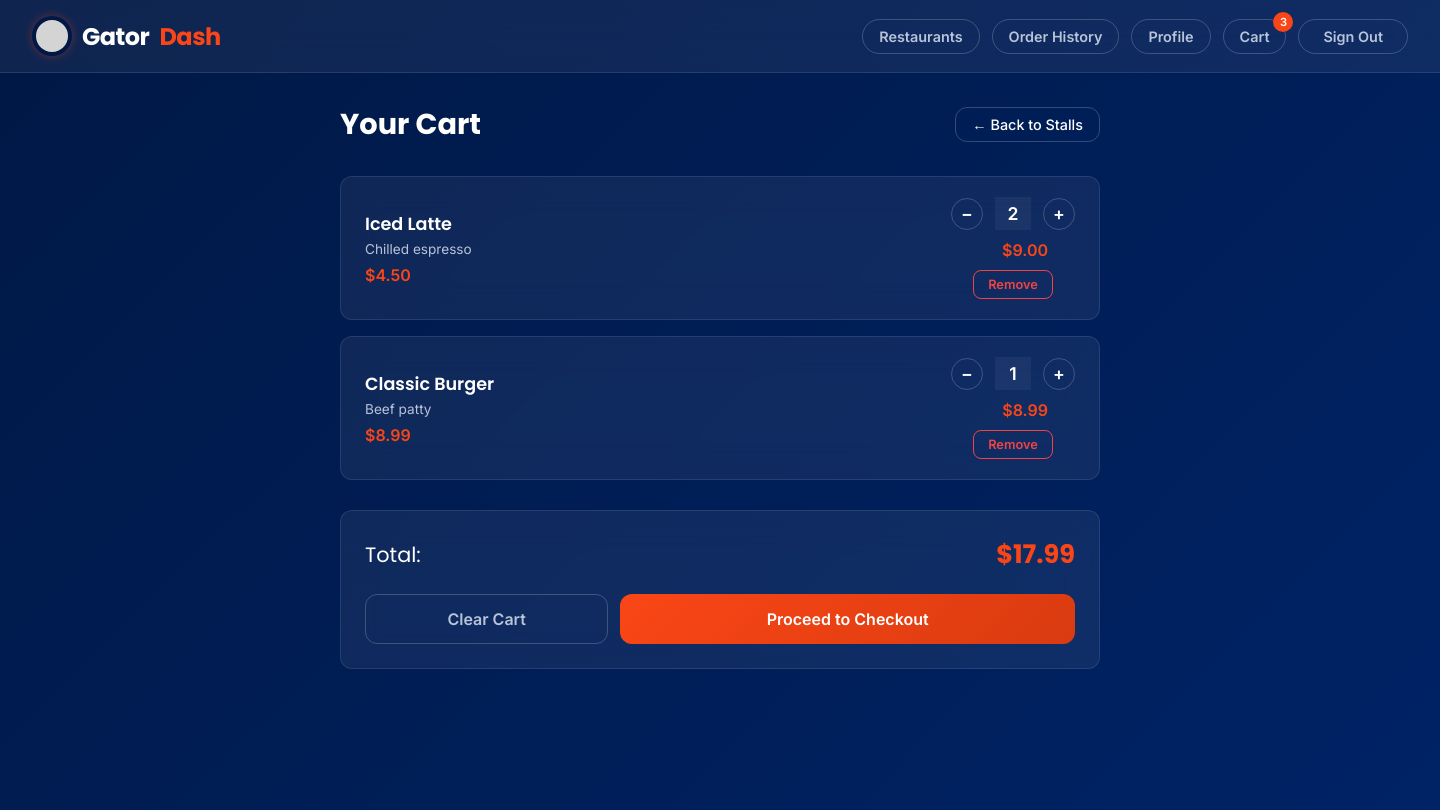
Cart Component › clears all items when clear cart is clicked
This screenshot has width=1440, height=810.
Click the button "Clear Cart".
click(487, 619)  # box [365, 594, 608, 644]
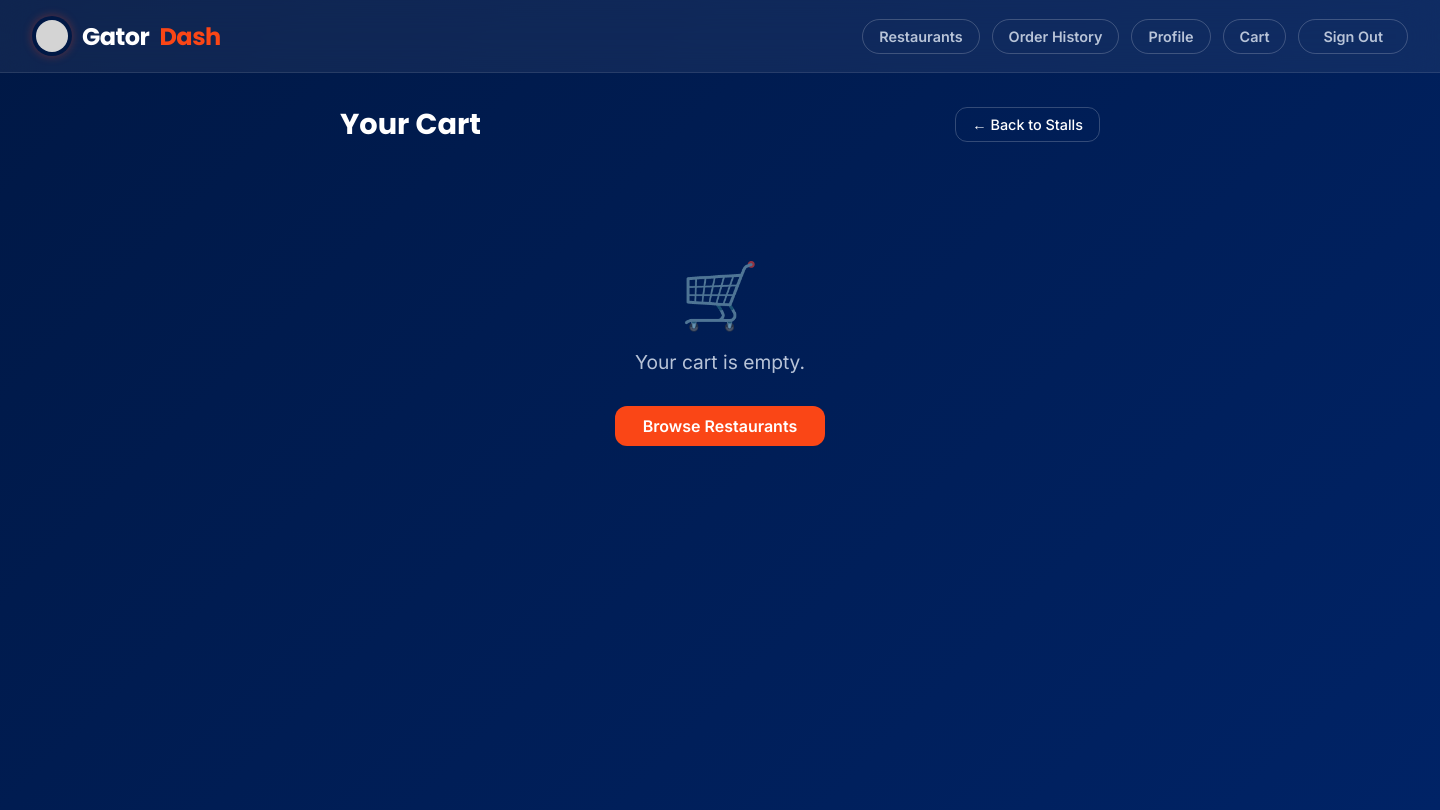
Now the text "Your cart is empty." is shown, box [635, 350, 805, 374]
